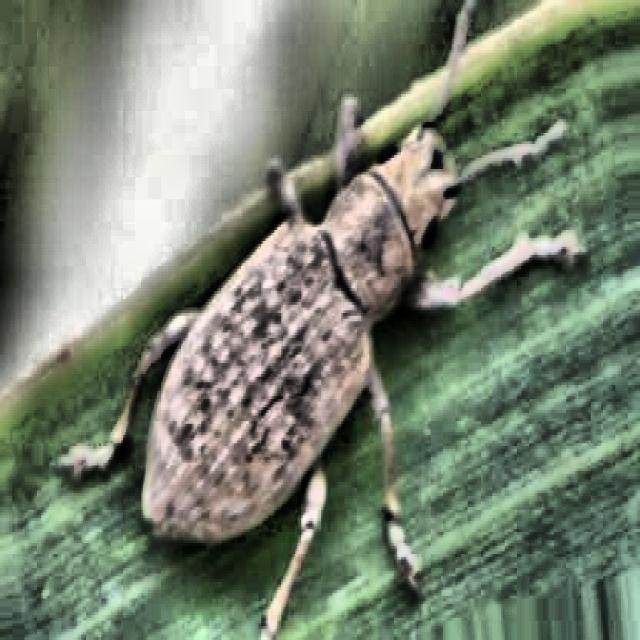Stink bug: (89, 5, 493, 625)
